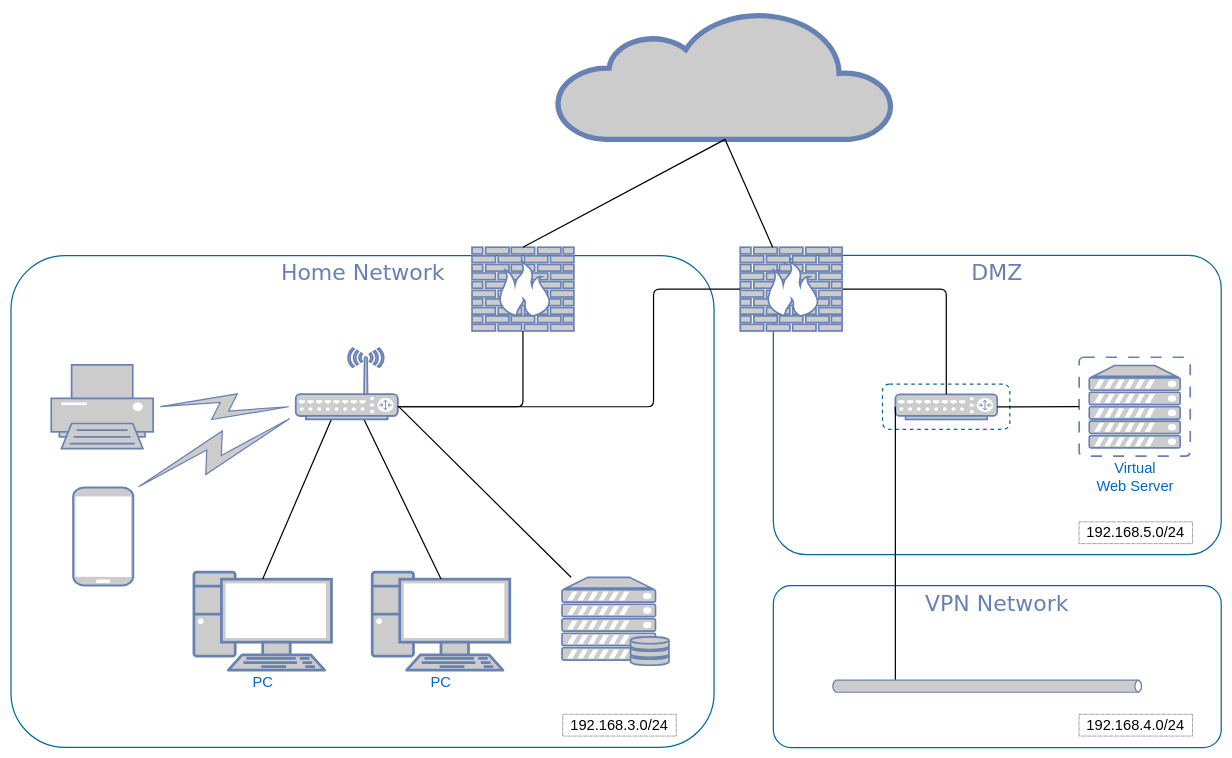
This 1232x758 diagram has some shape labels left out. Each missing label, with the centre of its shape:
"Internet" belongs at point (724, 75).
"iPhone" belongs at point (103, 536).
"Printer" belongs at point (101, 406).
"Storage Server" belongs at point (615, 621).
"Virtual Router" belongs at point (946, 406).
